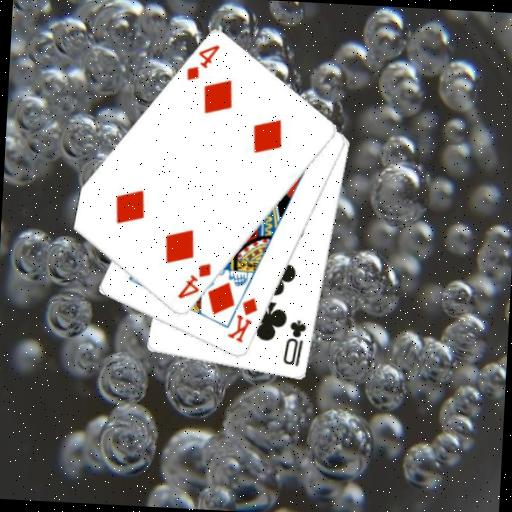10C: (280, 317, 309, 369)
4D: (174, 259, 214, 303), (183, 41, 222, 85)
KD: (224, 293, 261, 346)
